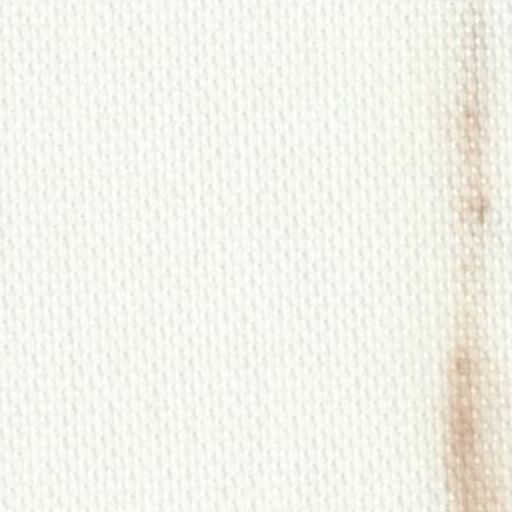WuZi: (425, 6, 506, 506)
